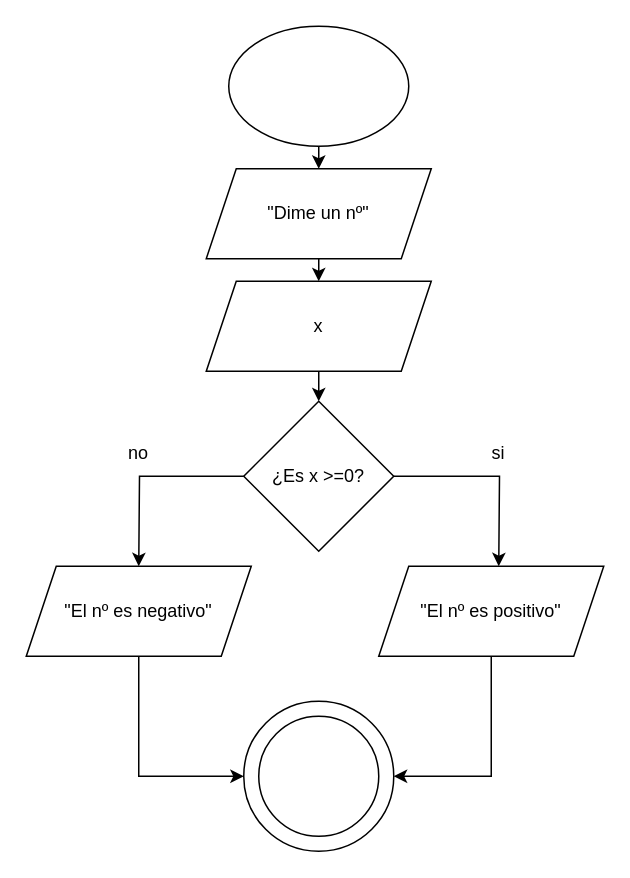
The diagram is 630 pixels wide and 878 high, and some of its shapes have lost their labels. The shapes that lost their labels are listed below. From the top down, each one's centre as x and y in pixels, then its label:
At pixel 318 85: "Inicio".
At pixel 318 775: "Fin".
